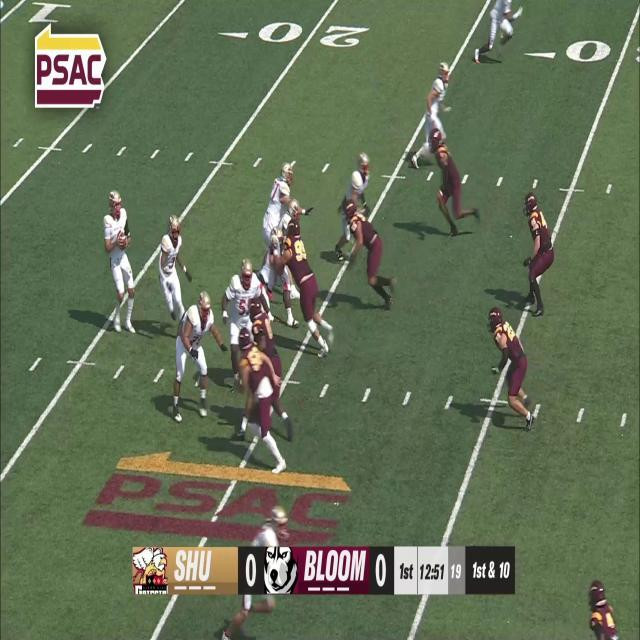football: (118, 230, 128, 249)
